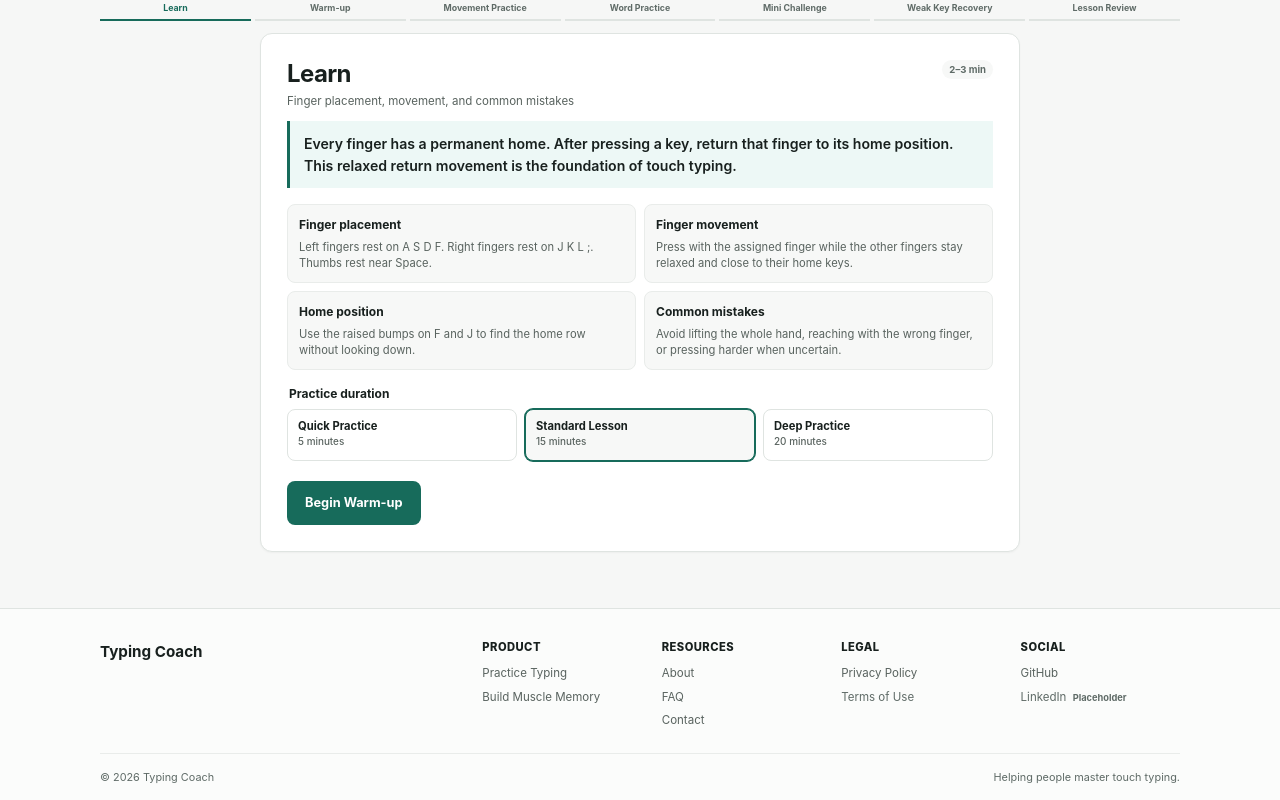
Scenario: Build Muscle Memory module › unlocks varied warm-ups sequentially with encouraging feedback
(page scrolled)
Click the button "Begin Warm-up" at (354, 504), box x1=287 y1=482 x2=421 y2=526
(page scrolled)
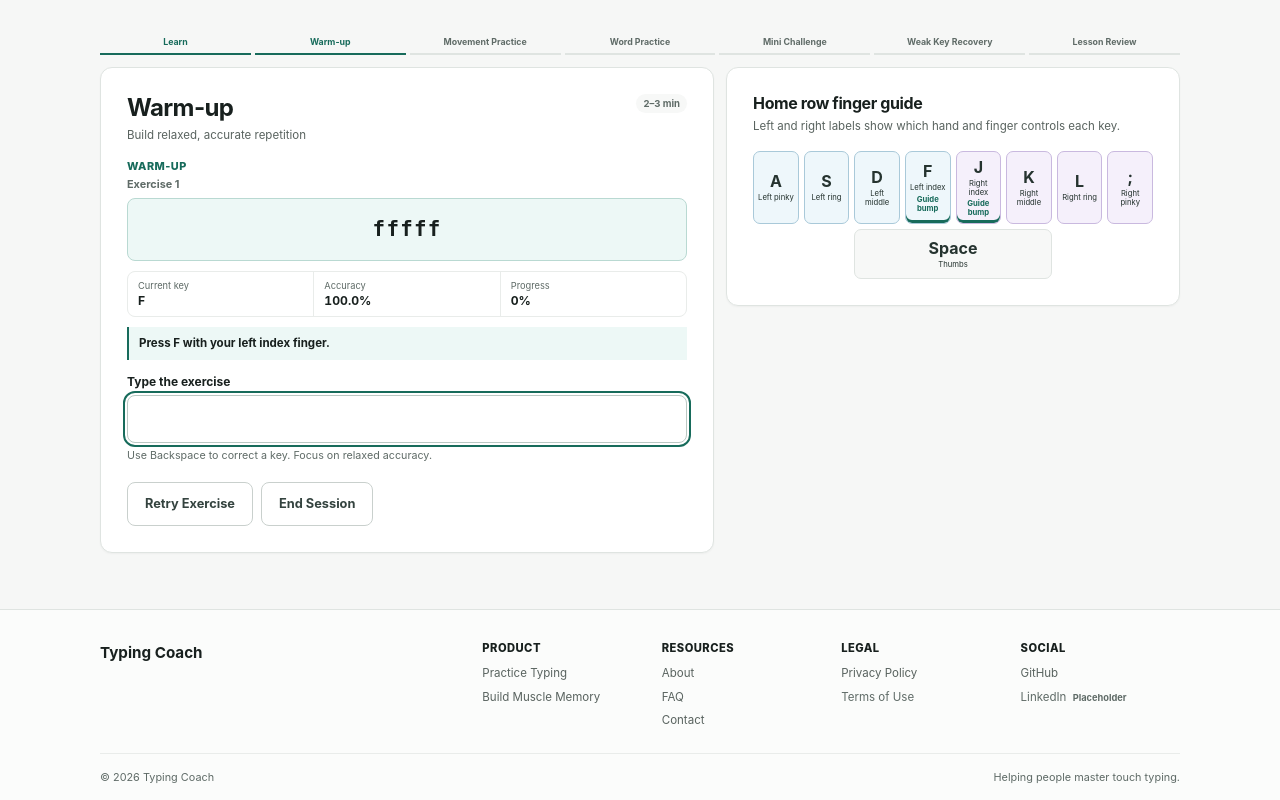
Result: the field labelled "Type the exercise" is shown
Type "fffff" into the field labelled "Type the exercise" at (407, 418), box x1=127 y1=394 x2=687 y2=442
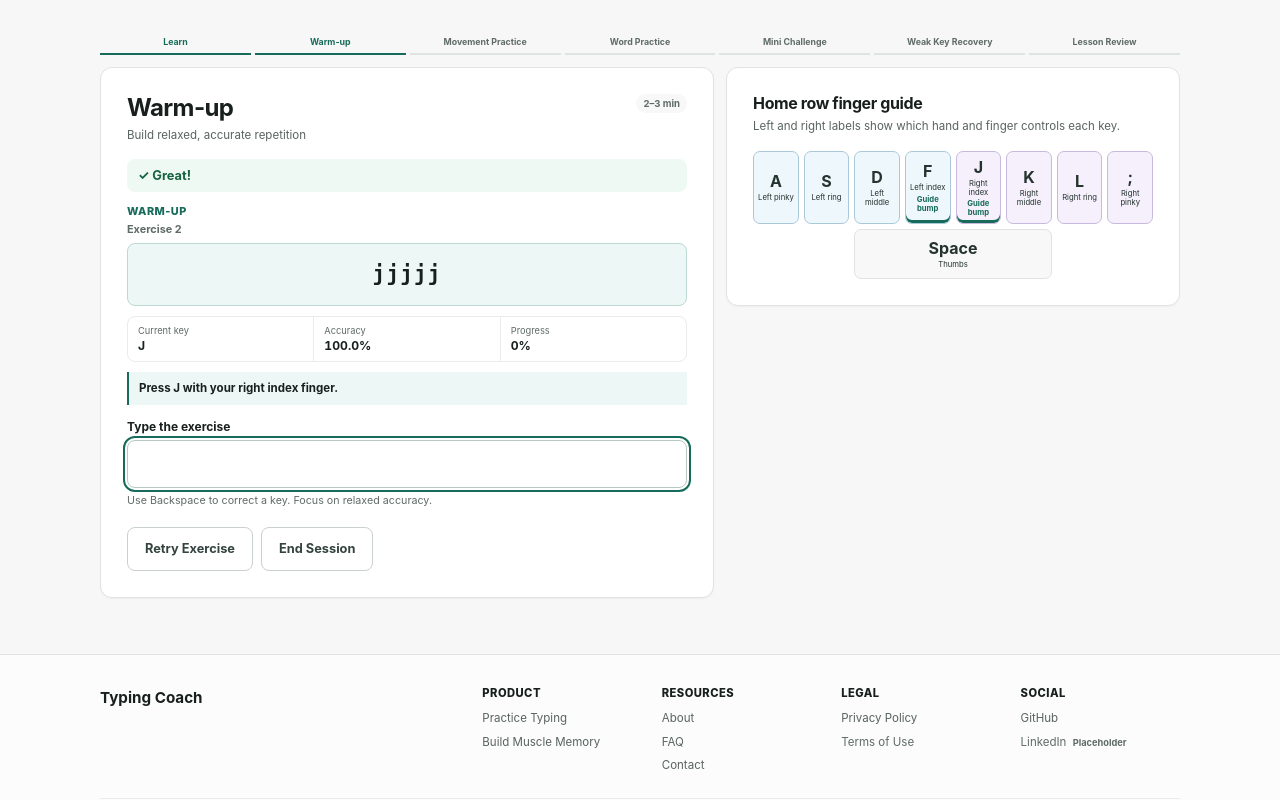
Result: the text labelled "Type:" no longer shows "fffff"
Result: the text "✓ Great!" is shown at x1=127 y1=159 x2=687 y2=192
